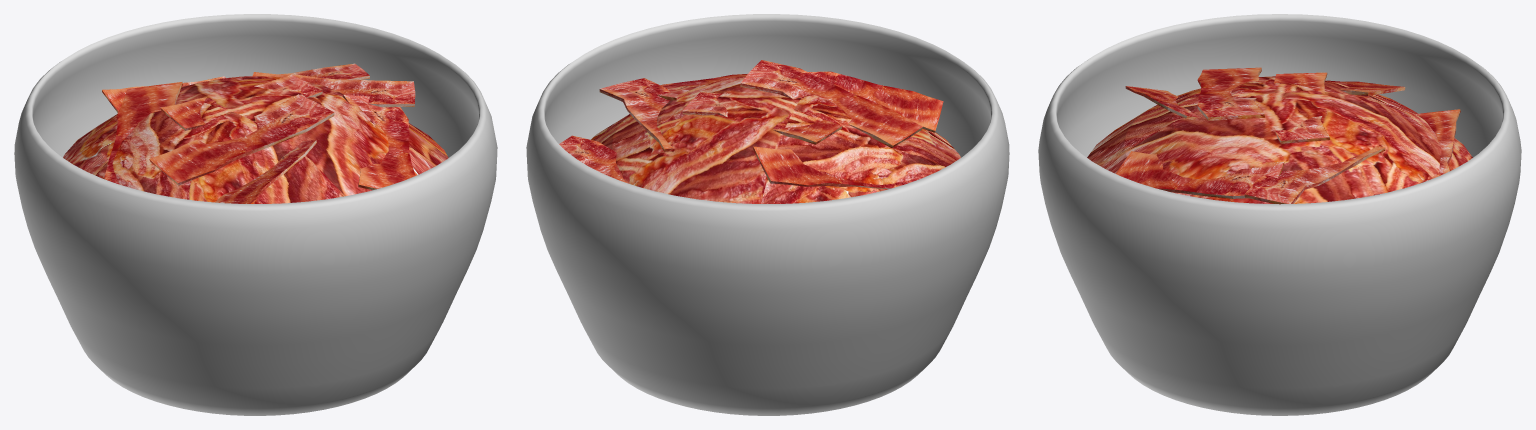
Rendered from bacon_bowl.fbx.
3 views of the same model, side by side, from view 1: azimuth 30°, elevation 25°; view 2: azimuth 150°, elevation 25°; view 3: azimuth 270°, elevation 25° (orthographic).
Visible parts, largest first — view 1: Sphere, Sphere.001, bacon.001, bacon.003, bacon.005, bacon.002, bacon.006, bacon.004, bacon, bacon.007; view 2: Sphere, Sphere.001, bacon.001, bacon.004, bacon.005, bacon.002, bacon.006, bacon, bacon.003; view 3: Sphere, Sphere.001, bacon.003, bacon.001, bacon.002, bacon.006, bacon.007, bacon.004, bacon.005.
Boxes of the visible parts, x1,y1,x2,y2 form: Sphere: (14, 14, 497, 415); Sphere.001: (63, 76, 448, 203); bacon.001: (149, 94, 334, 185); bacon.003: (343, 95, 415, 190); bacon.005: (104, 82, 182, 184); bacon.002: (252, 72, 415, 107); bacon.006: (160, 74, 322, 130); bacon.004: (215, 140, 316, 203); bacon: (281, 63, 369, 79); bacon.007: (102, 76, 225, 112); Sphere: (526, 14, 1009, 415); Sphere.001: (591, 77, 960, 203); bacon.001: (740, 60, 922, 147); bacon.004: (808, 71, 943, 132); bacon.005: (753, 146, 924, 189); bacon.002: (599, 78, 673, 151); bacon.006: (682, 92, 842, 144); bacon: (559, 135, 628, 183); bacon.003: (657, 74, 747, 100); Sphere: (1038, 14, 1521, 415); Sphere.001: (1087, 76, 1472, 203); bacon.003: (1116, 151, 1284, 198); bacon.001: (1197, 67, 1264, 120); bacon.002: (1244, 145, 1385, 204); bacon.006: (1274, 72, 1329, 143); bacon.007: (1417, 109, 1460, 174); bacon.004: (1125, 86, 1200, 119); bacon.005: (1326, 80, 1405, 95).
Bounding box in the file's own units: 39.86 × 23.02 × 39.86.
Materials: 10 (9 with a texture image).
